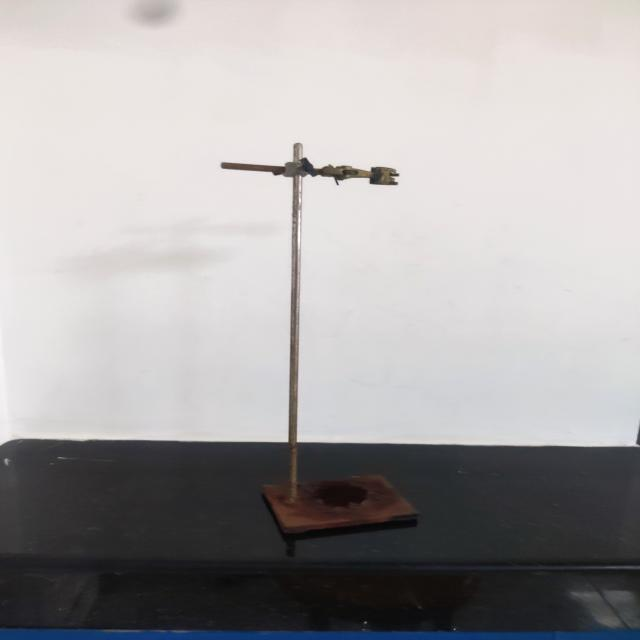Burette_Stands: (186, 123, 457, 565)
